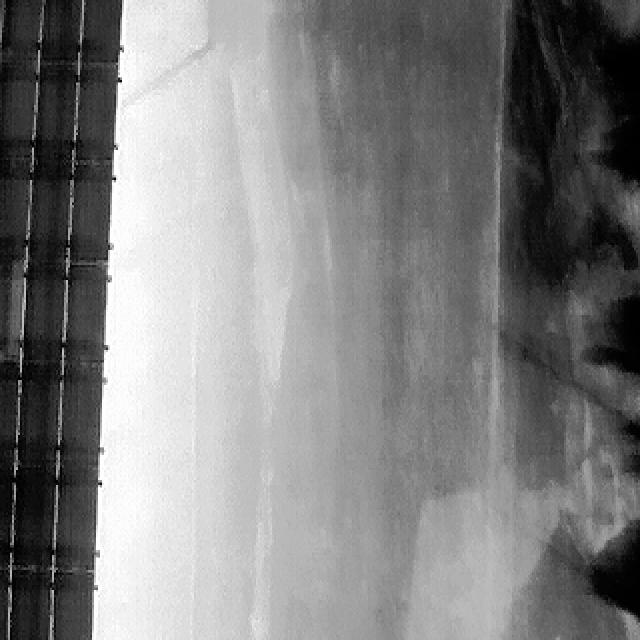PV-modules: (11, 467, 56, 570), (61, 362, 104, 469), (56, 466, 100, 570), (24, 262, 68, 365), (73, 66, 117, 166), (63, 266, 106, 367), (18, 360, 58, 468), (28, 170, 72, 266), (38, 62, 78, 167), (71, 166, 112, 267), (0, 58, 34, 160), (52, 567, 94, 640), (6, 567, 48, 640), (78, 0, 122, 64), (0, 170, 30, 262), (40, 0, 82, 65), (0, 0, 40, 60), (0, 260, 21, 367)
